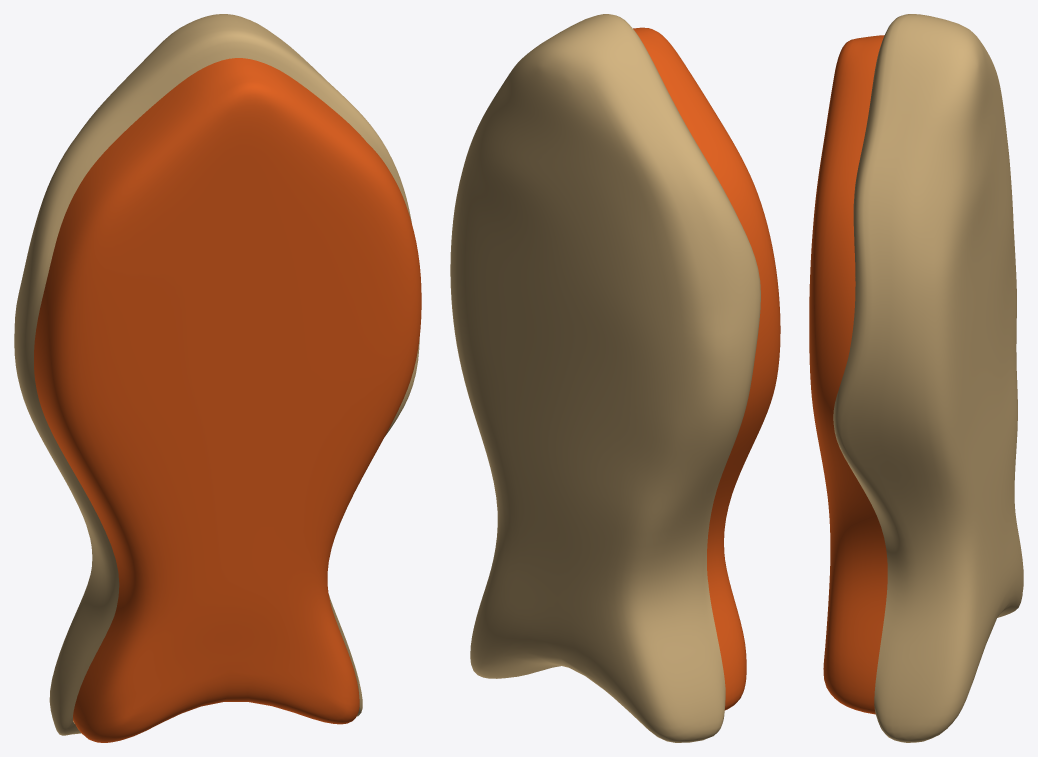
File: Fish_Snack.fbx
The picture shows the model from 3 angles, left to right: view 1: azimuth 30°, elevation 25°; view 2: azimuth 150°, elevation 25°; view 3: azimuth 270°, elevation 25°; orthographic projection. The views are drawn at different scales.
Visible parts, largest first — view 1: Cube; view 2: Cube; view 3: Cube.
Part boxes in pixels (x1,y1,x2,y2): Cube: (14,14,421,742); Cube: (450,14,780,742); Cube: (809,14,1023,742).
Bounding box in the file's own units: 8.28 × 16.5 × 4.8.
